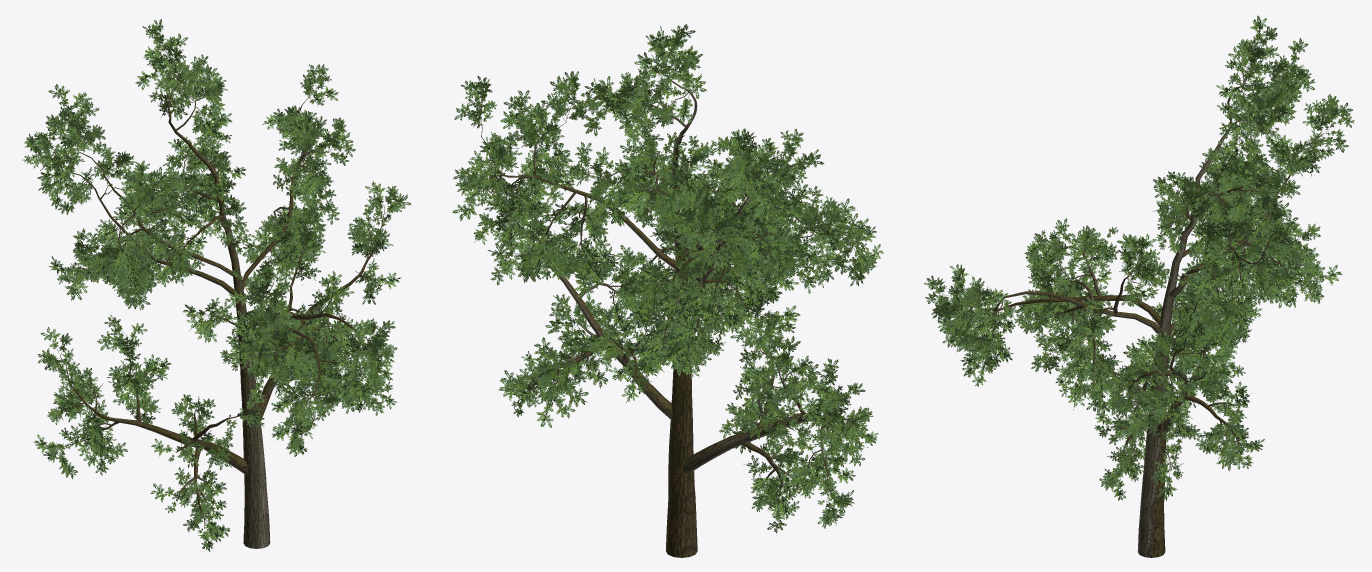
Rendered from ash.glb.
3 views of the same model, side by side, from view 1: azimuth 30°, elevation 25°; view 2: azimuth 150°, elevation 25°; view 3: azimuth 270°, elevation 25° (orthographic). The views are drawn at different scales.
Parts seen in each view (by area): view 1: Tree; view 2: Tree; view 3: Tree.
Boxes of the visible parts, bbox=[...] form: Tree: bbox=[22, 19, 411, 551]; Tree: bbox=[452, 24, 883, 557]; Tree: bbox=[924, 15, 1354, 557].
Bounding box in the file's own units: 62.58 × 82.38 × 63.55.
2 materials, 2 textured.
